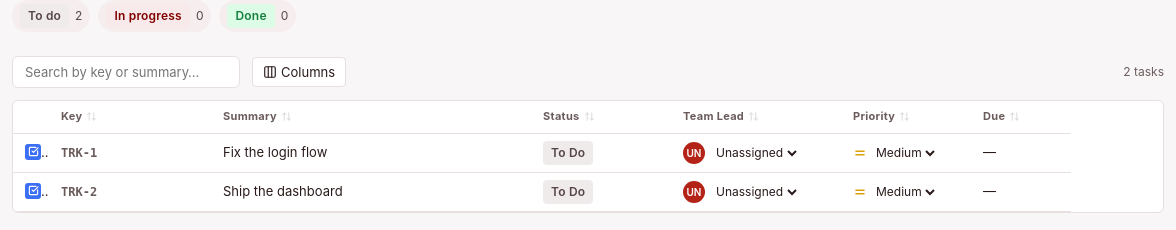
Test case: IssueTable › filters rows by the search box
Type "dashboard" into the field with placeholder "Search by key or summary…" at (126, 72), box x1=12 y1=56 x2=240 y2=88
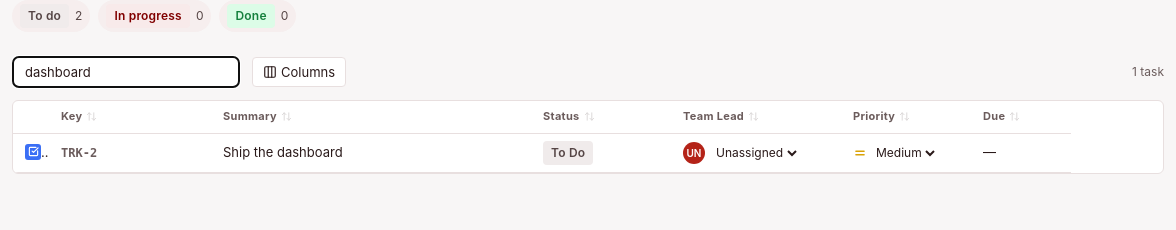
expect the text "Ship the dashboard" is shown: met, box x1=223 y1=144 x2=343 y2=160
expect the text "Fix the login flow" is gone: met
